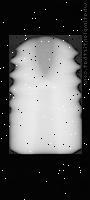DENTSPLY: (9, 35, 82, 154)
